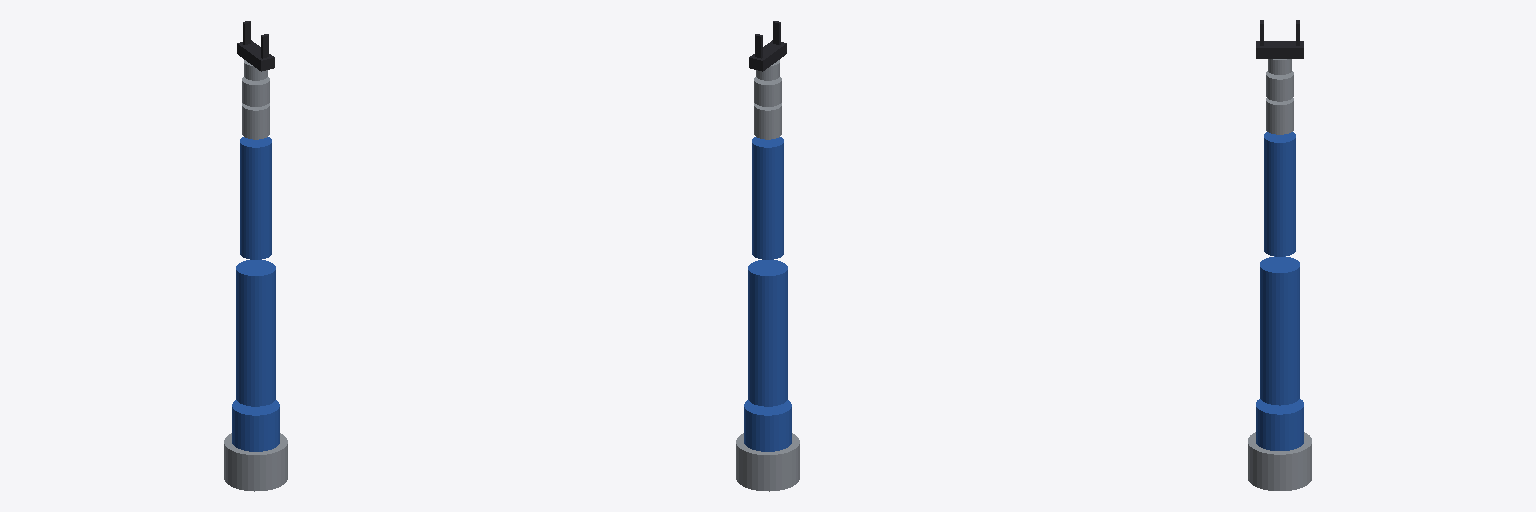
URDF robot description (arm6):
<?xml version="1.0"?>
<!-- arm6: a generic 6-DoF arm with a parallel gripper, Lagrange's sample for the v0.3 arm
     scenario (docs/design/robot-classes.md §4). A shoulder pan, shoulder lift and elbow, then a
     Z-Y-Z wrist; two prismatic fingers. Primitive shapes; masses and inertias computed for
     them. Parameters are illustrative, not a real product. Its motors, power supply and thermal
     nodes come from arm6.overlay.yaml. -->
<robot name="arm6">
  <material name="grey"><color rgba="0.6 0.62 0.65 1"/></material>
  <material name="blue"><color rgba="0.22 0.42 0.72 1"/></material>
  <material name="dark"><color rgba="0.2 0.2 0.22 1"/></material>

  <link name="world"/>
  <joint name="world_to_base" type="fixed">
    <parent link="world"/>
    <child link="base_link"/>
  </joint>
  <link name="base_link">
    <inertial>
      <origin xyz="0 0 0.05"/>
      <mass value="4.0"/>
      <inertia ixx="0.00973333" iyy="0.00973333" izz="0.0128" ixy="0" ixz="0" iyz="0"/>
    </inertial>
    <visual>
      <origin xyz="0 0 0.05"/>
      <geometry><cylinder radius="0.08" length="0.1"/></geometry>
      <material name="grey"/>
    </visual>
    <collision>
      <origin xyz="0 0 0.05"/>
      <geometry><cylinder radius="0.08" length="0.1"/></geometry>
    </collision>
  </link>
  <link name="shoulder_link">
    <inertial>
      <origin xyz="0 0 0.05"/>
      <mass value="3.0"/>
      <inertia ixx="0.0052" iyy="0.0052" izz="0.0054" ixy="0" ixz="0" iyz="0"/>
    </inertial>
    <visual>
      <origin xyz="0 0 0.05"/>
      <geometry><cylinder radius="0.06" length="0.1"/></geometry>
      <material name="blue"/>
    </visual>
    <collision>
      <origin xyz="0 0 0.05"/>
      <geometry><cylinder radius="0.06" length="0.1"/></geometry>
    </collision>
  </link>
  <link name="upper_arm_link">
    <inertial>
      <origin xyz="0 0 0.2"/>
      <mass value="4.0"/>
      <inertia ixx="0.0457" iyy="0.0457" izz="0.005" ixy="0" ixz="0" iyz="0"/>
    </inertial>
    <visual>
      <origin xyz="0 0 0.2"/>
      <geometry><cylinder radius="0.05" length="0.36"/></geometry>
      <material name="blue"/>
    </visual>
    <collision>
      <origin xyz="0 0 0.2"/>
      <geometry><cylinder radius="0.05" length="0.36"/></geometry>
    </collision>
  </link>
  <link name="forearm_link">
    <inertial>
      <origin xyz="0 0 0.175"/>
      <mass value="2.5"/>
      <inertia ixx="0.0210208" iyy="0.0210208" izz="0.002" ixy="0" ixz="0" iyz="0"/>
    </inertial>
    <visual>
      <origin xyz="0 0 0.175"/>
      <geometry><cylinder radius="0.04" length="0.31"/></geometry>
      <material name="blue"/>
    </visual>
    <collision>
      <origin xyz="0 0 0.175"/>
      <geometry><cylinder radius="0.04" length="0.31"/></geometry>
    </collision>
  </link>
  <link name="wrist_1_link">
    <inertial>
      <origin xyz="0 0 0.04"/>
      <mass value="1.0"/>
      <inertia ixx="0.000839583" iyy="0.000839583" izz="0.0006125" ixy="0" ixz="0" iyz="0"/>
    </inertial>
    <visual>
      <origin xyz="0 0 0.04"/>
      <geometry><cylinder radius="0.035" length="0.08"/></geometry>
      <material name="grey"/>
    </visual>
    <collision>
      <origin xyz="0 0 0.04"/>
      <geometry><cylinder radius="0.035" length="0.08"/></geometry>
    </collision>
  </link>
  <link name="wrist_2_link">
    <inertial>
      <origin xyz="0 0 0.04"/>
      <mass value="0.8"/>
      <inertia ixx="0.000485" iyy="0.000485" izz="0.00049" ixy="0" ixz="0" iyz="0"/>
    </inertial>
    <visual>
      <origin xyz="0 0 0.04"/>
      <geometry><cylinder radius="0.035" length="0.06"/></geometry>
      <material name="grey"/>
    </visual>
    <collision>
      <origin xyz="0 0 0.04"/>
      <geometry><cylinder radius="0.035" length="0.06"/></geometry>
    </collision>
  </link>
  <link name="wrist_3_link">
    <inertial>
      <origin xyz="0 0 0.02"/>
      <mass value="0.5"/>
      <inertia ixx="0.000179167" iyy="0.000179167" izz="0.000225" ixy="0" ixz="0" iyz="0"/>
    </inertial>
    <visual>
      <origin xyz="0 0 0.02"/>
      <geometry><cylinder radius="0.03" length="0.04"/></geometry>
      <material name="grey"/>
    </visual>
    <collision>
      <origin xyz="0 0 0.02"/>
      <geometry><cylinder radius="0.03" length="0.04"/></geometry>
    </collision>
  </link>
  <link name="palm_link">
    <inertial>
      <origin xyz="0 0 0.015"/>
      <mass value="0.3"/>
      <inertia ixx="0.0003825" iyy="6.25e-05" izz="0.0004" ixy="0" ixz="0" iyz="0"/>
    </inertial>
    <visual>
      <origin xyz="0 0 0.015"/>
      <geometry><box size="0.04 0.12 0.03"/></geometry>
      <material name="dark"/>
    </visual>
    <collision>
      <origin xyz="0 0 0.015"/>
      <geometry><box size="0.04 0.12 0.03"/></geometry>
    </collision>
  </link>
  <joint name="shoulder_pan_joint" type="revolute">
    <parent link="base_link"/>
    <child link="shoulder_link"/>
    <origin xyz="0 0 0.1"/>
    <axis xyz="0 0 1"/>
    <limit lower="-3.14159265" upper="3.14159265" effort="150" velocity="2.0"/>
  </joint>
  <joint name="shoulder_lift_joint" type="revolute">
    <parent link="shoulder_link"/>
    <child link="upper_arm_link"/>
    <origin xyz="0 0 0.1"/>
    <axis xyz="0 1 0"/>
    <limit lower="-2.0" upper="2.0" effort="150" velocity="2.0"/>
  </joint>
  <joint name="elbow_joint" type="revolute">
    <parent link="upper_arm_link"/>
    <child link="forearm_link"/>
    <origin xyz="0 0 0.4"/>
    <axis xyz="0 1 0"/>
    <limit lower="-2.6" upper="2.6" effort="150" velocity="2.5"/>
  </joint>
  <joint name="wrist_1_joint" type="revolute">
    <parent link="forearm_link"/>
    <child link="wrist_1_link"/>
    <origin xyz="0 0 0.35"/>
    <axis xyz="0 0 1"/>
    <limit lower="-3.14159265" upper="3.14159265" effort="30" velocity="3.0"/>
  </joint>
  <joint name="wrist_2_joint" type="revolute">
    <parent link="wrist_1_link"/>
    <child link="wrist_2_link"/>
    <origin xyz="0 0 0.08"/>
    <axis xyz="0 1 0"/>
    <limit lower="-2.0" upper="2.0" effort="30" velocity="3.0"/>
  </joint>
  <joint name="wrist_3_joint" type="revolute">
    <parent link="wrist_2_link"/>
    <child link="wrist_3_link"/>
    <origin xyz="0 0 0.08"/>
    <axis xyz="0 0 1"/>
    <limit lower="-3.14159265" upper="3.14159265" effort="30" velocity="3.0"/>
  </joint>
  <joint name="wrist_3_to_palm" type="fixed">
    <parent link="wrist_3_link"/>
    <child link="palm_link"/>
    <origin xyz="0 0 0.04"/>
  </joint>
  <link name="finger_left_link">
    <inertial>
      <origin xyz="0 0 0.03"/>
      <mass value="0.05"/>
      <inertia ixx="1.54167e-05" iyy="1.66667e-05" izz="2.08333e-06" ixy="0" ixz="0" iyz="0"/>
    </inertial>
    <visual><origin xyz="0 0 0.03"/><geometry><box size="0.02 0.01 0.06"/></geometry><material name="dark"/></visual>
    <collision><origin xyz="0 0 0.03"/><geometry><box size="0.02 0.01 0.06"/></geometry></collision>
  </link>
  <joint name="finger_left_joint" type="prismatic">
    <parent link="palm_link"/>
    <child link="finger_left_link"/>
    <origin xyz="0 0.045 0.03"/>
    <axis xyz="0 -1 0"/>
    <limit lower="-0.002" upper="0.037" effort="20" velocity="0.1"/>
  </joint>
  <link name="finger_right_link">
    <inertial>
      <origin xyz="0 0 0.03"/>
      <mass value="0.05"/>
      <inertia ixx="1.54167e-05" iyy="1.66667e-05" izz="2.08333e-06" ixy="0" ixz="0" iyz="0"/>
    </inertial>
    <visual><origin xyz="0 0 0.03"/><geometry><box size="0.02 0.01 0.06"/></geometry><material name="dark"/></visual>
    <collision><origin xyz="0 0 0.03"/><geometry><box size="0.02 0.01 0.06"/></geometry></collision>
  </link>
  <joint name="finger_right_joint" type="prismatic">
    <parent link="palm_link"/>
    <child link="finger_right_link"/>
    <origin xyz="0 -0.045 0.03"/>
    <axis xyz="0 1 0"/>
    <limit lower="-0.002" upper="0.037" effort="20" velocity="0.1"/>
  </joint>

  <!-- Wrist camera on the palm, looking between the fingers (along the palm's z). The sensor
       frame looks along its x (the Gazebo convention); ROS gets wrist_camera_optical too. -->
  <gazebo reference="palm_link">
    <sensor name="wrist_camera" type="camera">
      <pose>0.03 0 0.02 0 -1.5707963 0</pose>
      <update_rate>15</update_rate>
      <camera>
        <horizontal_fov>1.2</horizontal_fov>
        <image><width>640</width><height>480</height></image>
        <clip><near>0.02</near><far>5</far></clip>
      </camera>
    </sensor>
  </gazebo>

  <!-- Position servos in the drives (LagrangeSystem): joint_trajectory_controller sends
       positions; the gains turn them into torque commands for the electrical domain. -->
  <ros2_control name="LagrangeSystem" type="system">
    <hardware>
      <plugin>lagrange_ros2_control/LagrangeSystem</plugin>
    </hardware>
    <joint name="shoulder_pan_joint">
      <command_interface name="position"/>
      <command_interface name="effort"/>
      <state_interface name="position"/>
      <state_interface name="velocity"/>
      <param name="position_p">1500</param>
      <param name="position_i">3000</param>
      <param name="position_d">80</param>
    </joint>
    <joint name="shoulder_lift_joint">
      <command_interface name="position"/>
      <command_interface name="effort"/>
      <state_interface name="position"/>
      <state_interface name="velocity"/>
      <param name="position_p">2000</param>
      <param name="position_i">4000</param>
      <param name="position_d">100</param>
    </joint>
    <joint name="elbow_joint">
      <command_interface name="position"/>
      <command_interface name="effort"/>
      <state_interface name="position"/>
      <state_interface name="velocity"/>
      <param name="position_p">1500</param>
      <param name="position_i">3000</param>
      <param name="position_d">70</param>
    </joint>
    <joint name="wrist_1_joint">
      <command_interface name="position"/>
      <command_interface name="effort"/>
      <state_interface name="position"/>
      <state_interface name="velocity"/>
      <param name="position_p">150</param>
      <param name="position_i">300</param>
      <param name="position_d">4</param>
    </joint>
    <joint name="wrist_2_joint">
      <command_interface name="position"/>
      <command_interface name="effort"/>
      <state_interface name="position"/>
      <state_interface name="velocity"/>
      <param name="position_p">150</param>
      <param name="position_i">300</param>
      <param name="position_d">4</param>
    </joint>
    <joint name="wrist_3_joint">
      <command_interface name="position"/>
      <command_interface name="effort"/>
      <state_interface name="position"/>
      <state_interface name="velocity"/>
      <param name="position_p">100</param>
      <param name="position_i">200</param>
      <param name="position_d">3</param>
    </joint>
    <joint name="finger_left_joint">
      <command_interface name="position"/>
      <state_interface name="position"/>
      <state_interface name="velocity"/>
      <param name="position_p">400</param>
      <param name="position_d">8</param>
    </joint>
    <joint name="finger_right_joint">
      <command_interface name="position"/>
      <state_interface name="position"/>
      <state_interface name="velocity"/>
      <param name="position_p">400</param>
      <param name="position_d">8</param>
    </joint>
  </ros2_control>
</robot>

--- Facts derived from the render (not from the file) ---
3 views of the same robot in one strip: view 1: azimuth 30°, elevation 25°; view 2: azimuth 150°, elevation 25°; view 3: azimuth 270°, elevation 25° (orthographic).
Robot: arm6 — 11 links, 10 joints (6 revolute, 2 prismatic, 2 fixed); root link world; default pose: all joints at 0.
Links seen in each view (by area): view 1: upper_arm_link, forearm_link, base_link, shoulder_link, wrist_1_link, wrist_2_link, palm_link; view 2: upper_arm_link, forearm_link, base_link, shoulder_link, wrist_1_link, wrist_2_link, palm_link; view 3: upper_arm_link, forearm_link, base_link, shoulder_link, wrist_1_link, palm_link, wrist_2_link.
Boxes of the visible links, bbox=[...] form: upper_arm_link: bbox=[236, 260, 275, 406]; forearm_link: bbox=[240, 137, 271, 259]; base_link: bbox=[224, 433, 287, 491]; shoulder_link: bbox=[232, 400, 279, 451]; wrist_1_link: bbox=[242, 103, 269, 139]; wrist_2_link: bbox=[242, 77, 269, 106]; palm_link: bbox=[237, 40, 274, 71]; upper_arm_link: bbox=[748, 260, 787, 406]; forearm_link: bbox=[752, 137, 783, 259]; base_link: bbox=[736, 433, 799, 491]; shoulder_link: bbox=[744, 400, 791, 451]; wrist_1_link: bbox=[754, 103, 781, 139]; wrist_2_link: bbox=[754, 77, 781, 106]; palm_link: bbox=[749, 40, 786, 71]; upper_arm_link: bbox=[1260, 256, 1299, 405]; forearm_link: bbox=[1264, 132, 1295, 256]; base_link: bbox=[1248, 432, 1311, 490]; shoulder_link: bbox=[1256, 399, 1303, 450]; wrist_1_link: bbox=[1266, 98, 1293, 134]; palm_link: bbox=[1256, 41, 1303, 58]; wrist_2_link: bbox=[1266, 71, 1293, 101].
Size in the robot's own frame: 0.16 by 0.16 by 1.24 metres.
Geometry: primitives only (box / cylinder / sphere), no mesh files.
